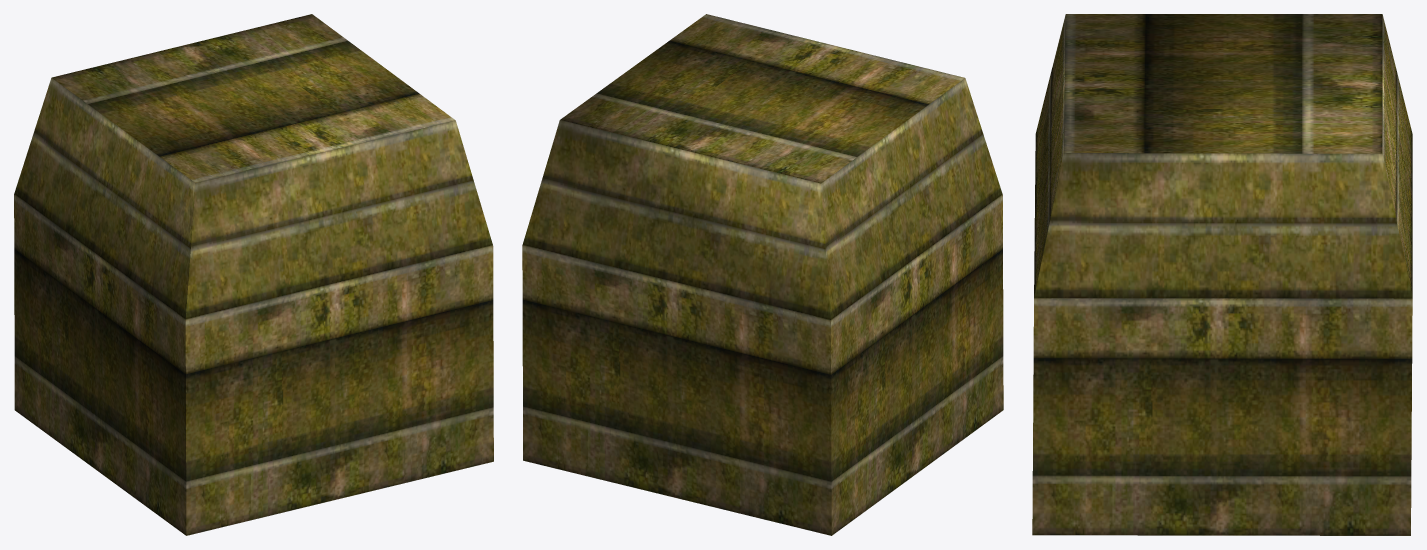
The model's file is OVERHILL_A_01_OBJECT319.fbx.
The picture shows the model from 3 angles, left to right: view 1: azimuth 30°, elevation 25°; view 2: azimuth 150°, elevation 25°; view 3: azimuth 270°, elevation 25°; orthographic projection. The views are drawn at different scales.
Visible parts, largest first — view 1: OVERHILL_A_01_OBJECT319; view 2: OVERHILL_A_01_OBJECT319; view 3: OVERHILL_A_01_OBJECT319.
Part boxes in pixels (bbox=[...]): OVERHILL_A_01_OBJECT319: bbox=[14, 14, 493, 535]; OVERHILL_A_01_OBJECT319: bbox=[522, 14, 1003, 535]; OVERHILL_A_01_OBJECT319: bbox=[1032, 14, 1412, 535].
Size of the model in its own units: 11843 by 12361 by 11525.
Materials: 2 (2 with a texture image).
